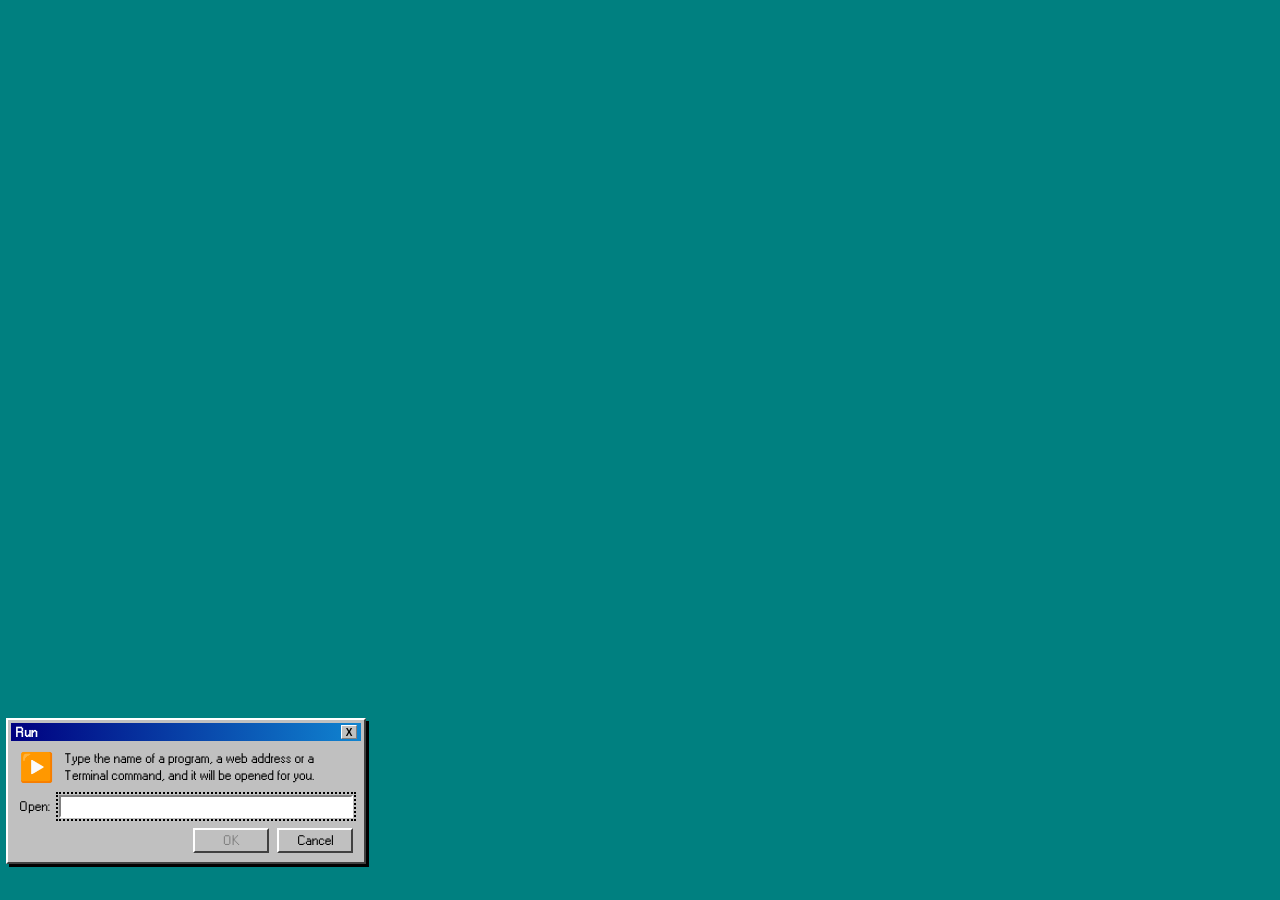
Test: RunDialog › OK is disabled until something is typed
This screenshot has width=1280, height=900.
Expected: the button "OK" is disabled, [193, 828, 269, 853]
In the field labelled "Open:": (206, 806) [59, 795, 353, 818], type "paint"
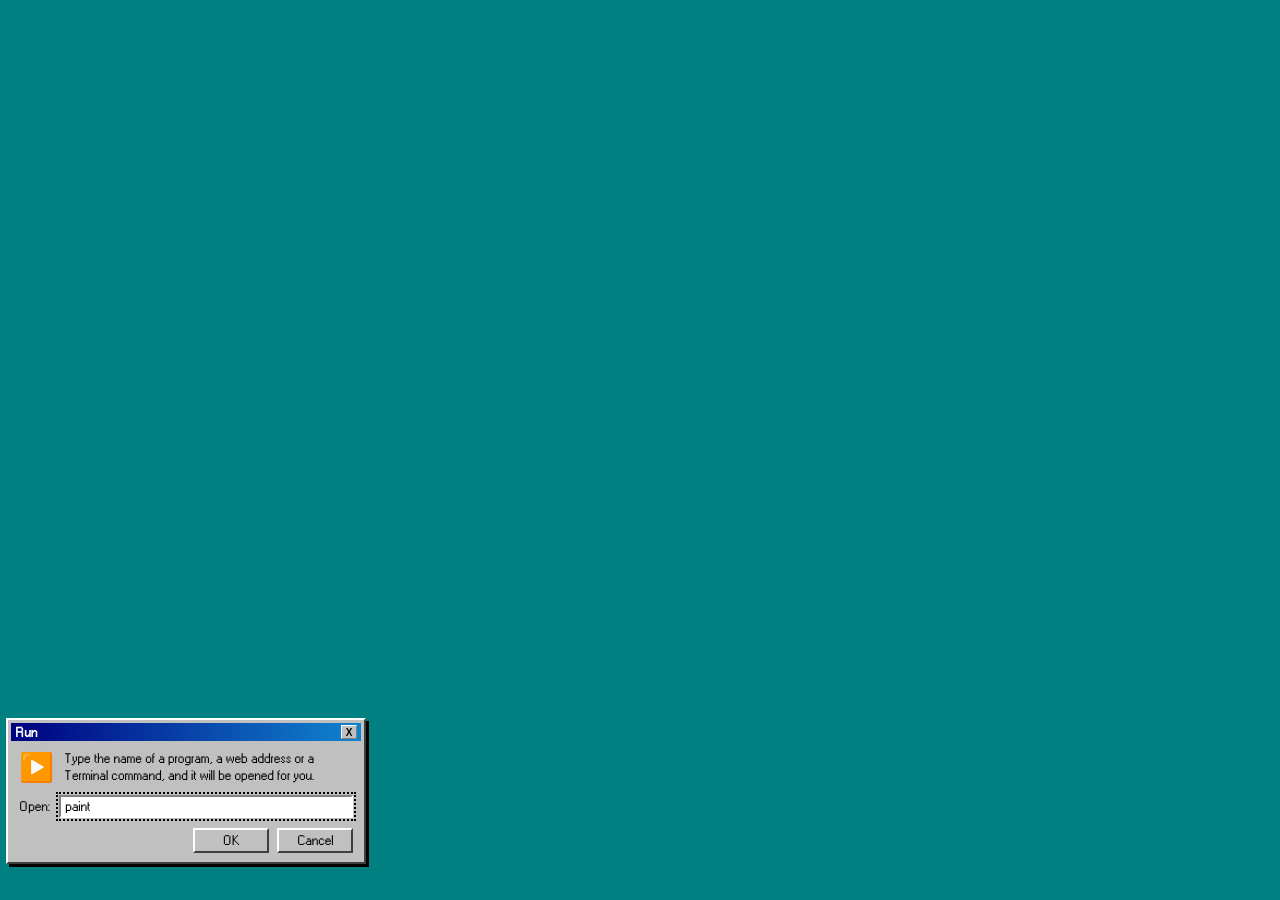
Result: the button "OK" is enabled at [193, 828, 269, 853]
